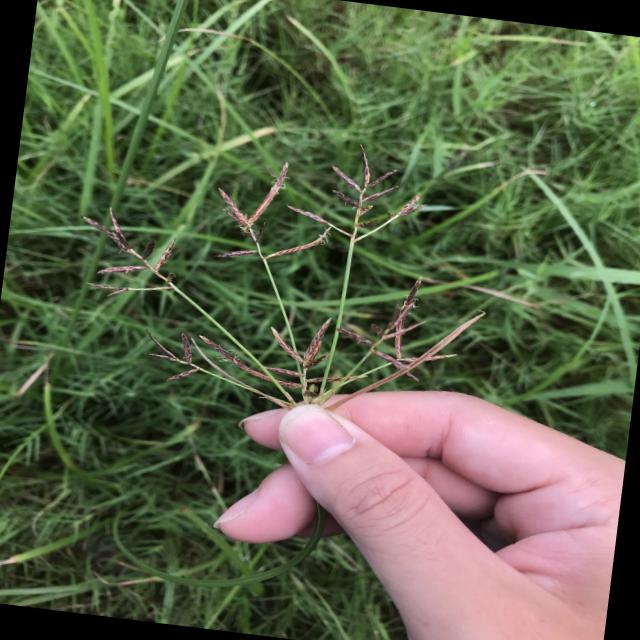cyperus: (52, 107, 500, 442)
